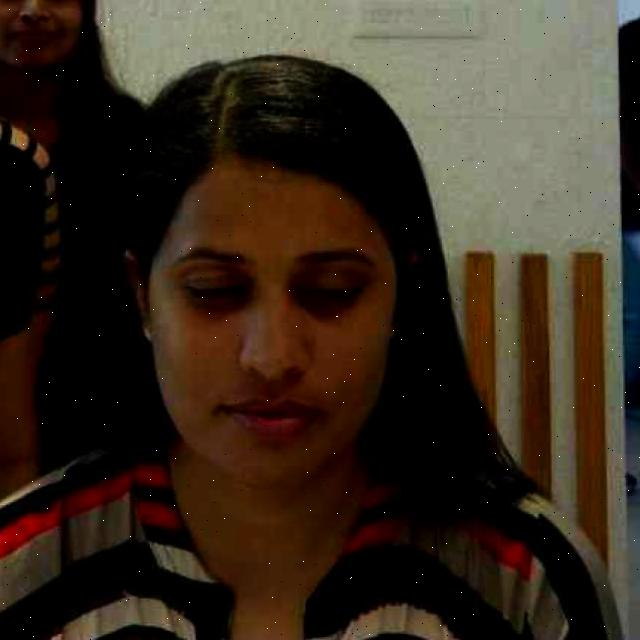puffy_eyes: (185, 293, 231, 309)
